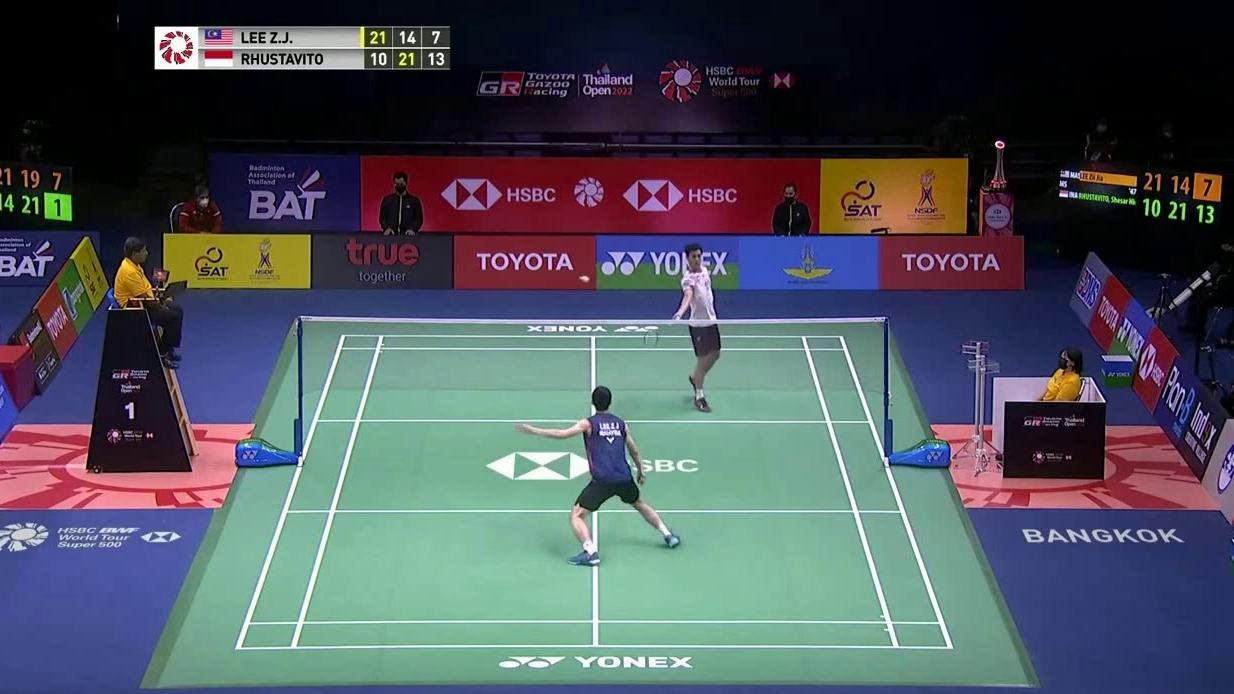racket: (643, 316, 680, 348), (634, 469, 646, 499)
shuttle: (578, 275, 591, 283)
